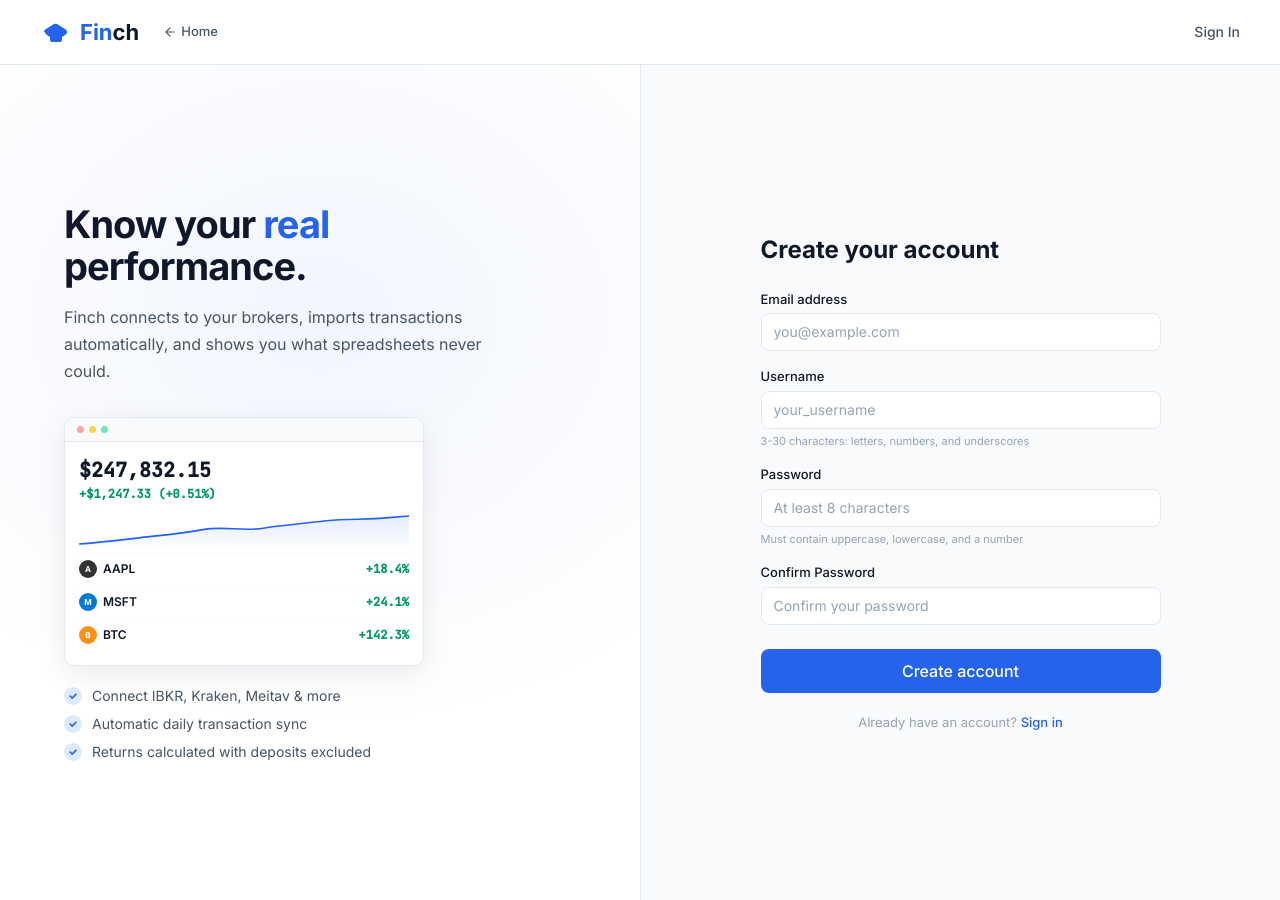
Scenario: Register › shows error when passwords do not match
In the field labelled "Email address": (960, 332) x1=760 y1=313 x2=1160 y2=351, type "a@b.com"
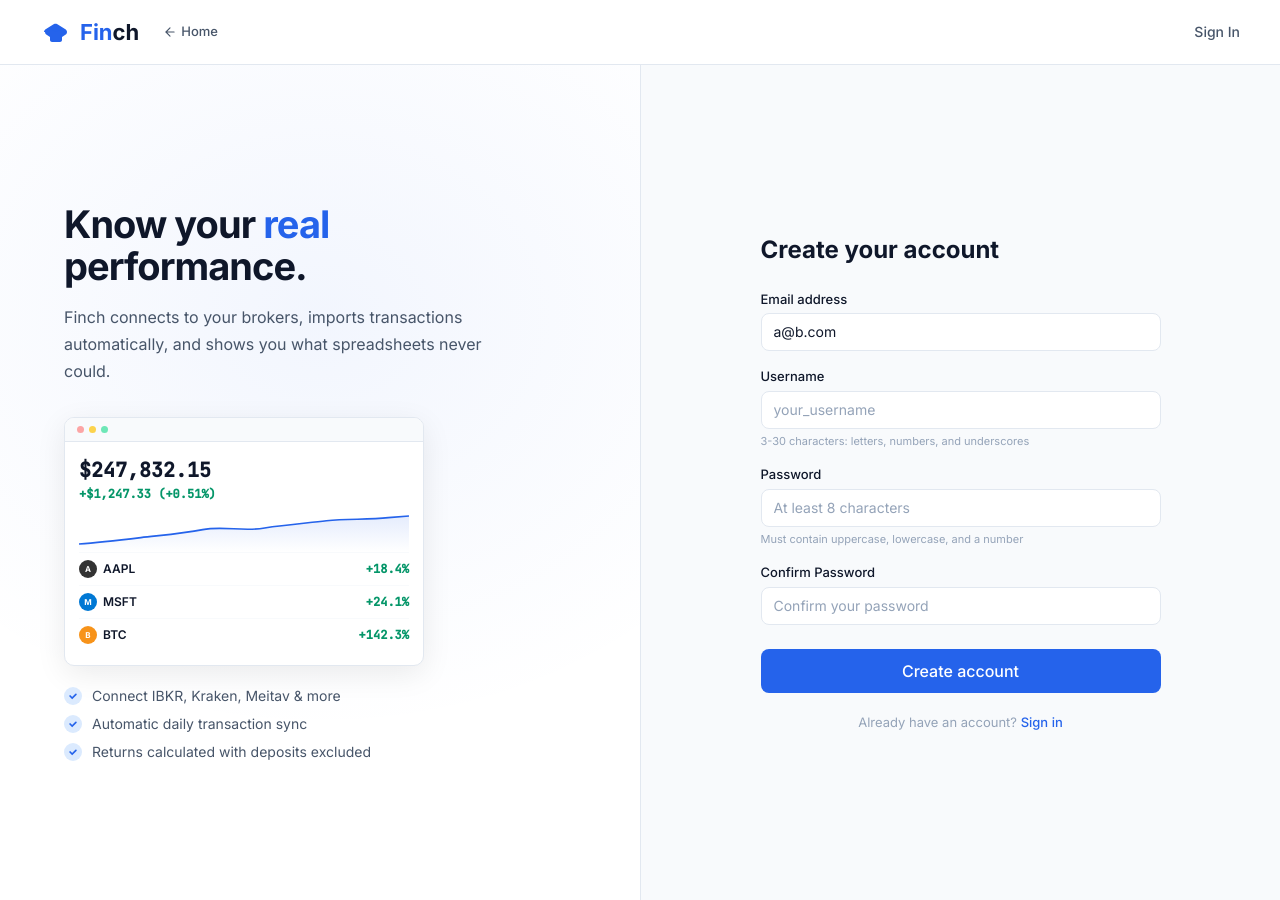
In the field labelled "Username": (960, 410) x1=760 y1=391 x2=1160 y2=429, type "user1"
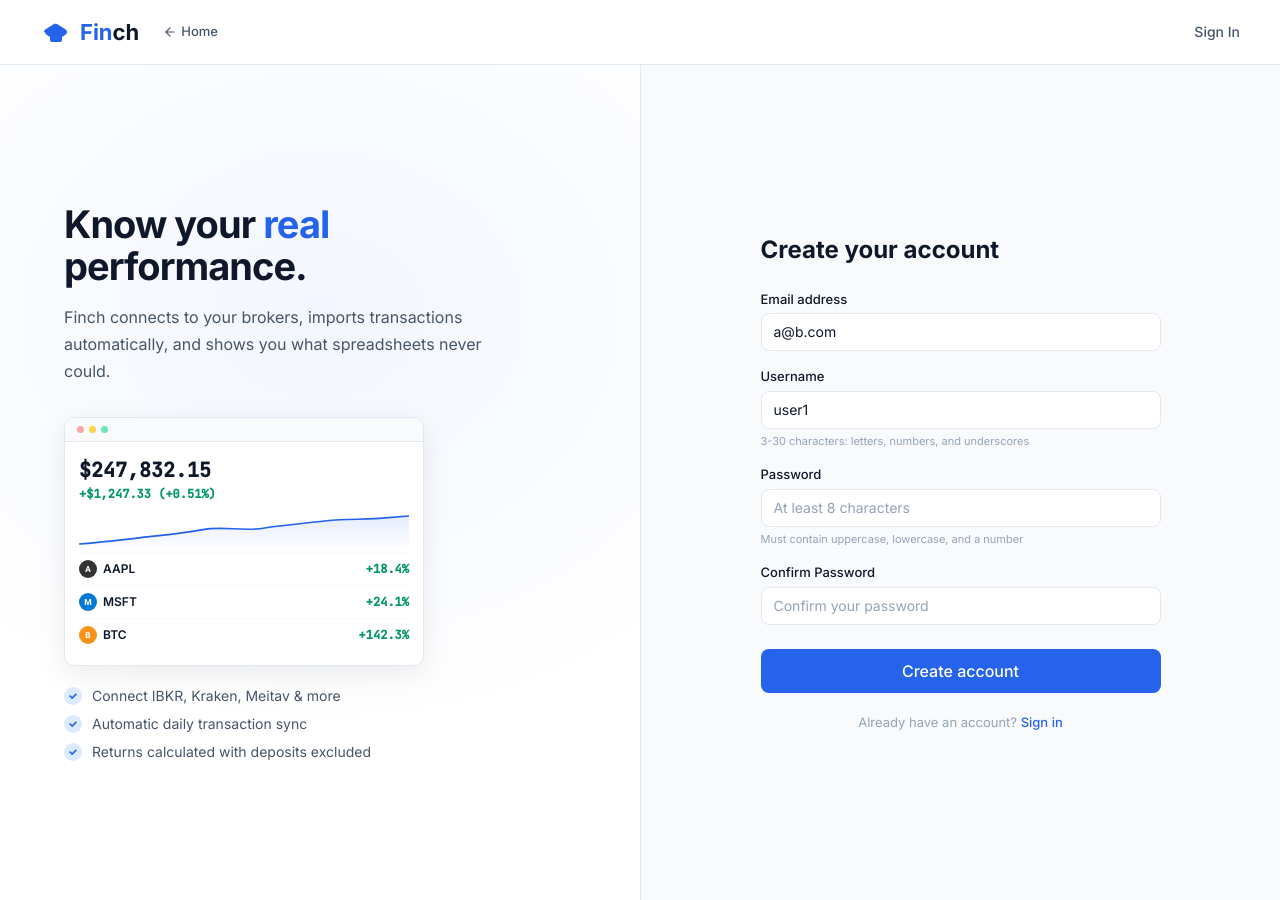
In the password field labelled "Password": (960, 508) x1=760 y1=489 x2=1160 y2=527, type "Password1"
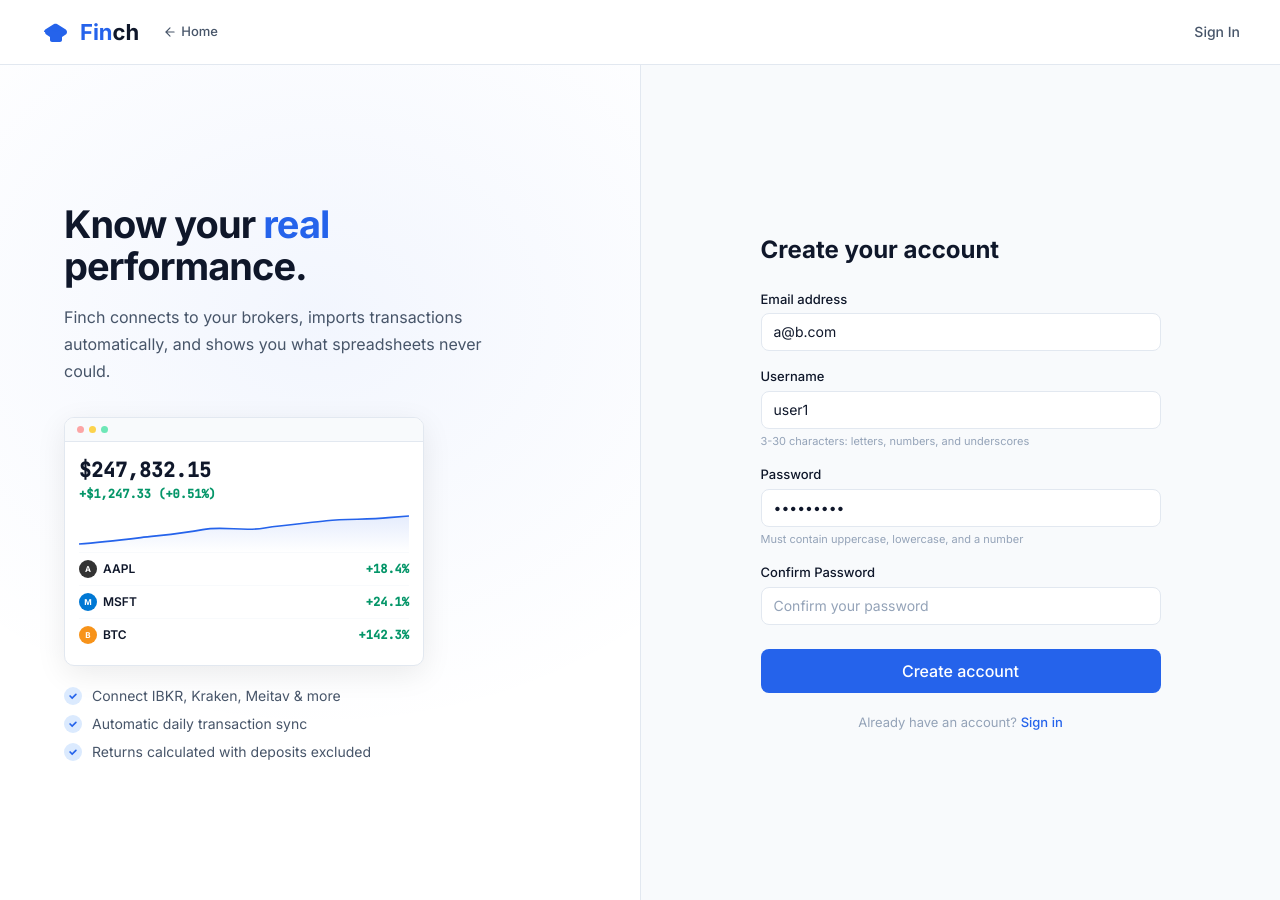
In the password field labelled "Confirm Password": (960, 606) x1=760 y1=587 x2=1160 y2=625, type "Different1"
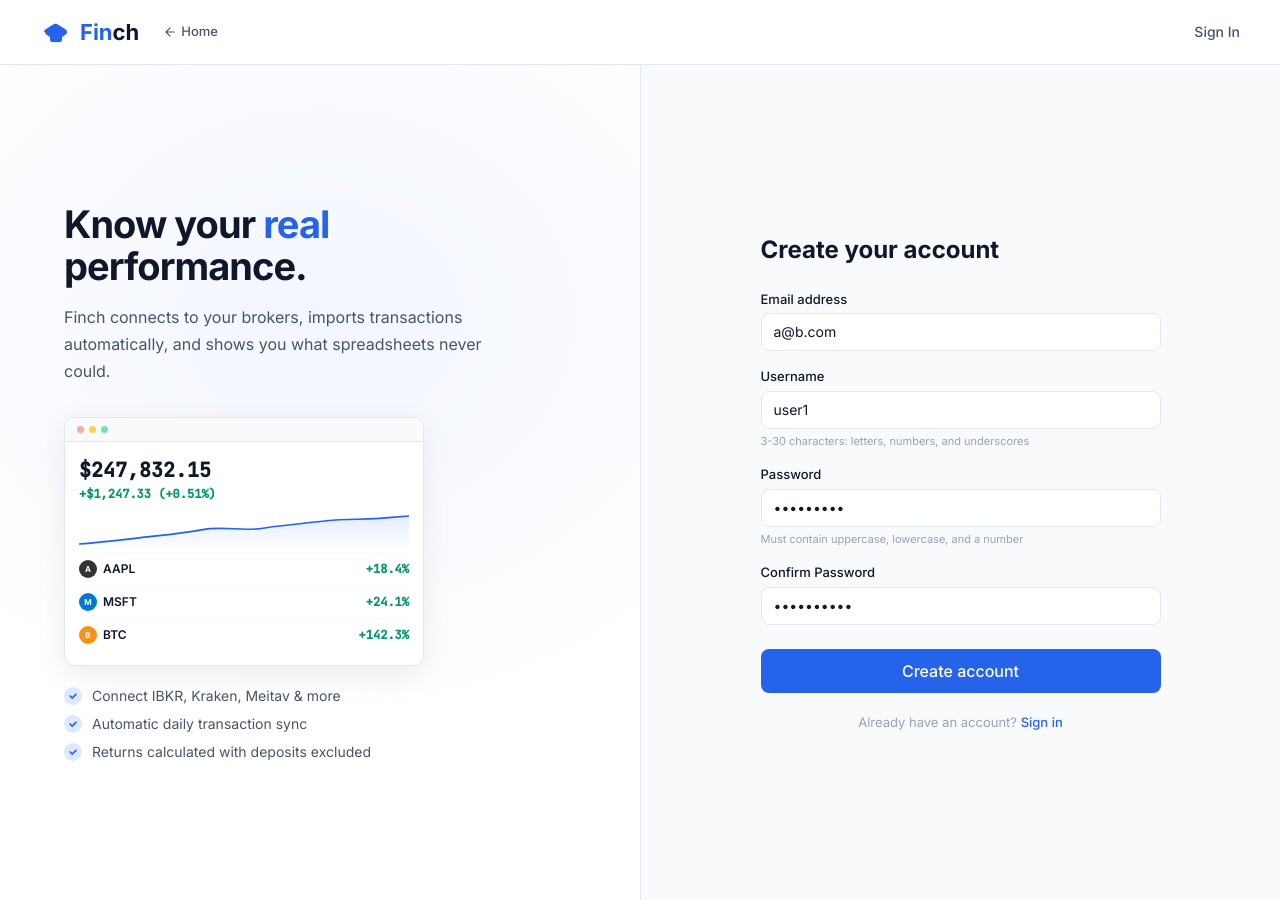
Click the button "Create account": (960, 671) x1=760 y1=649 x2=1160 y2=693
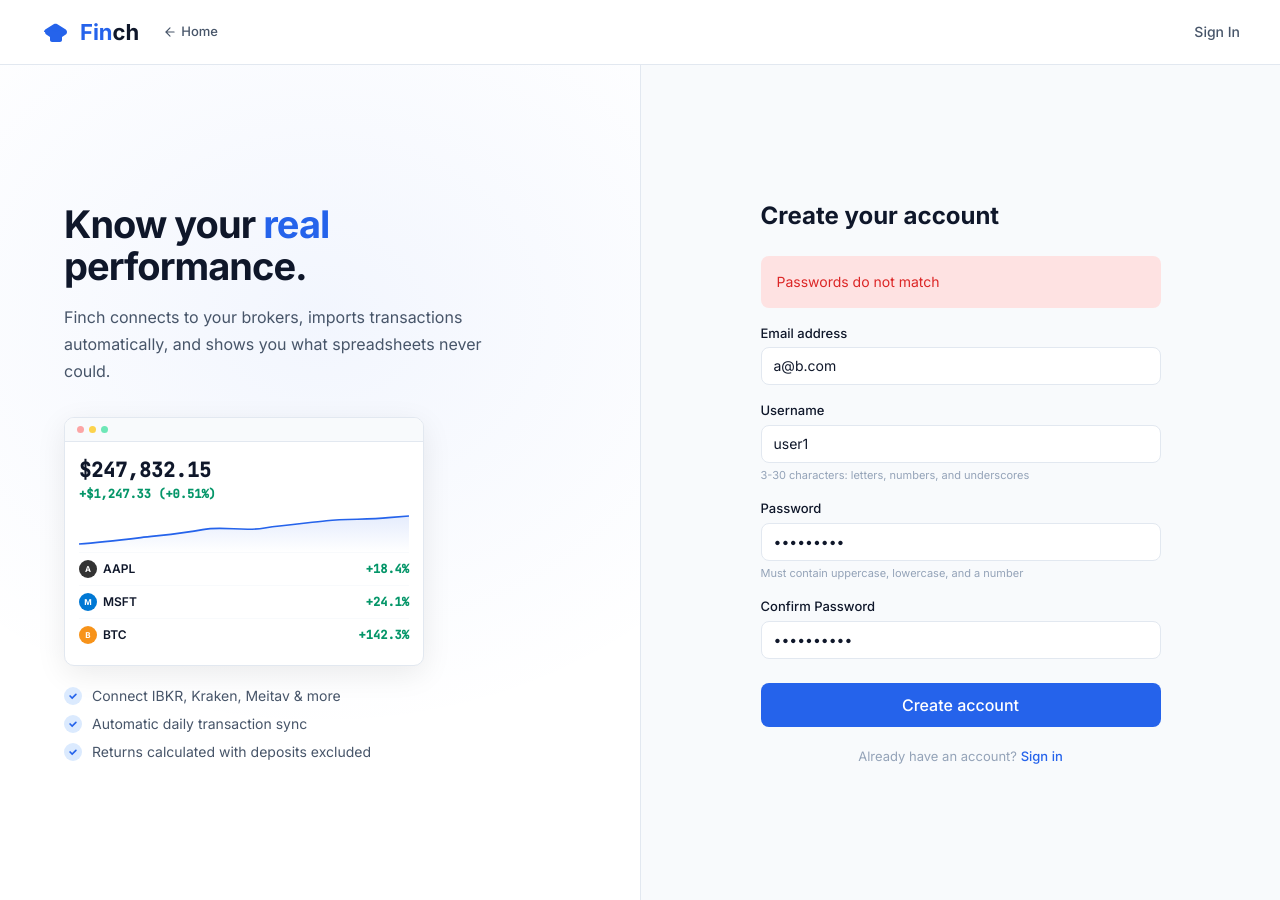
expect the text "Passwords do not match" is shown: met, box x1=776 y1=273 x2=940 y2=290
